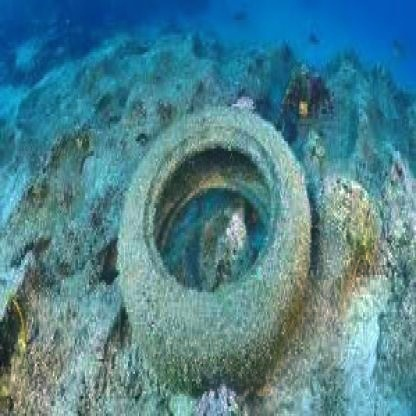tire: (123, 87, 306, 391)
